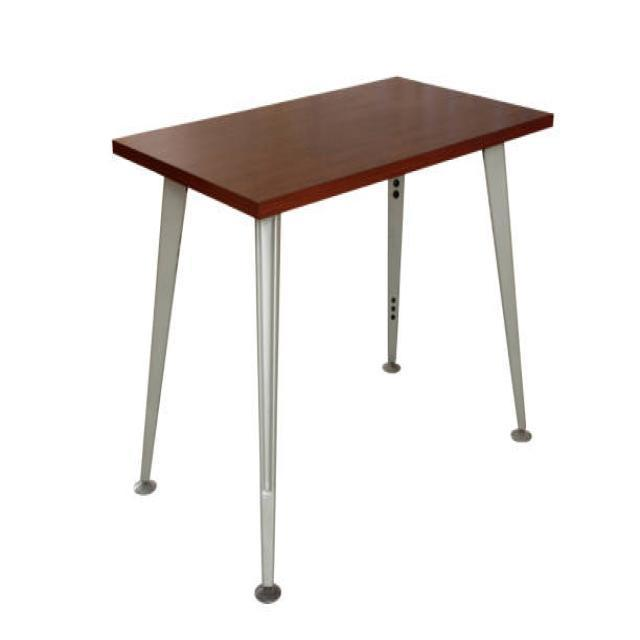table: (110, 73, 554, 602)
